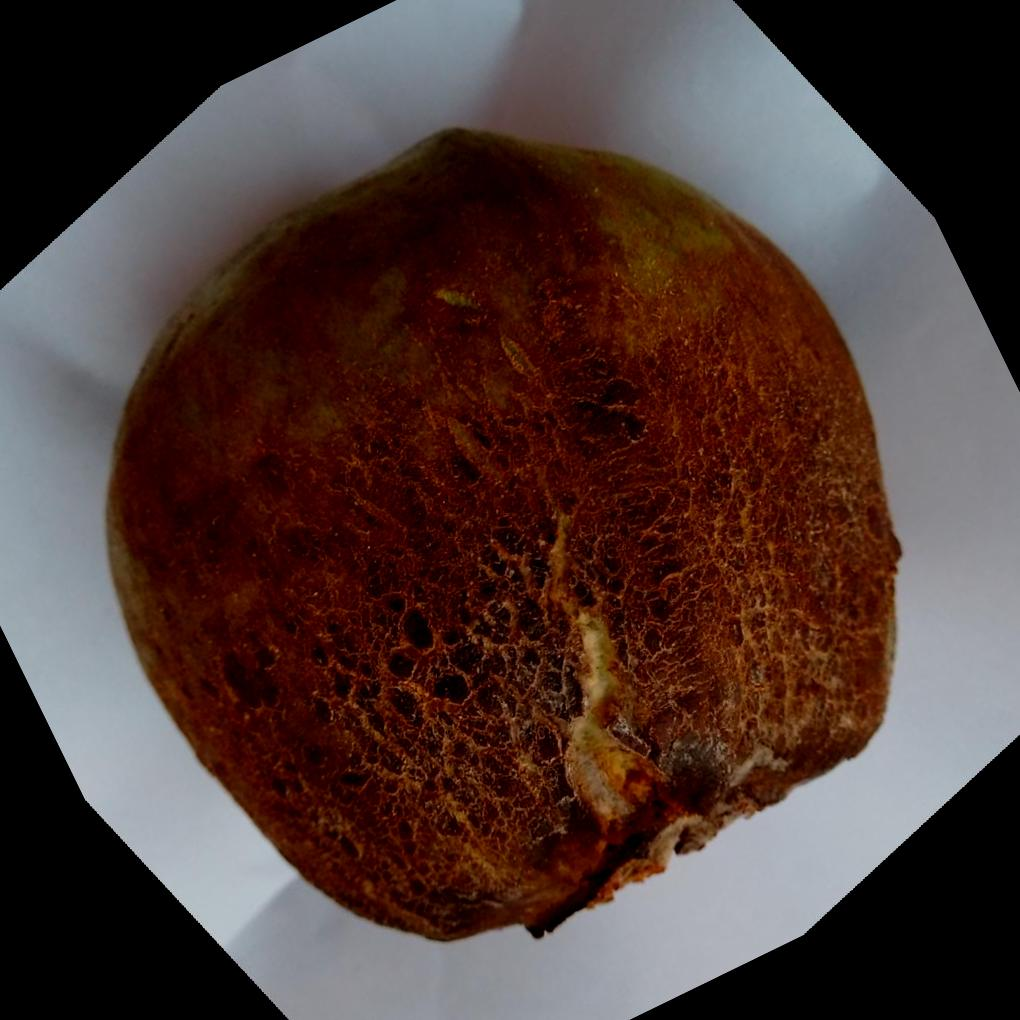FreshOrange: (101, 122, 900, 941)
